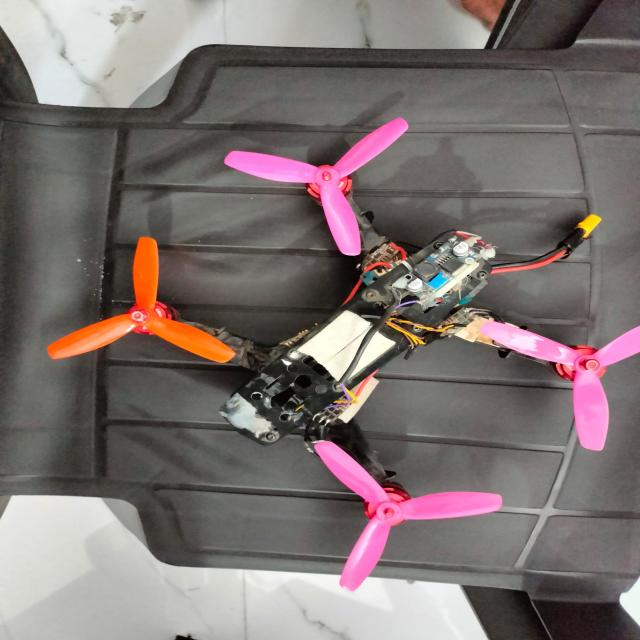drone: (77, 122, 590, 530)
